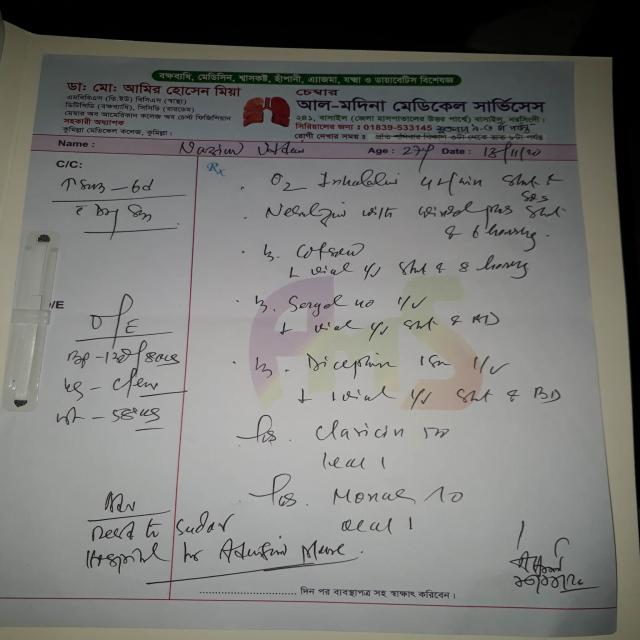Claricin: (305, 414, 412, 450)
Cofson: (289, 237, 369, 263)
Dicephin: (300, 347, 401, 378)
Monas: (325, 483, 419, 508)
O2 Inhalation: (265, 167, 407, 192)
Sergel: (284, 293, 348, 319)
